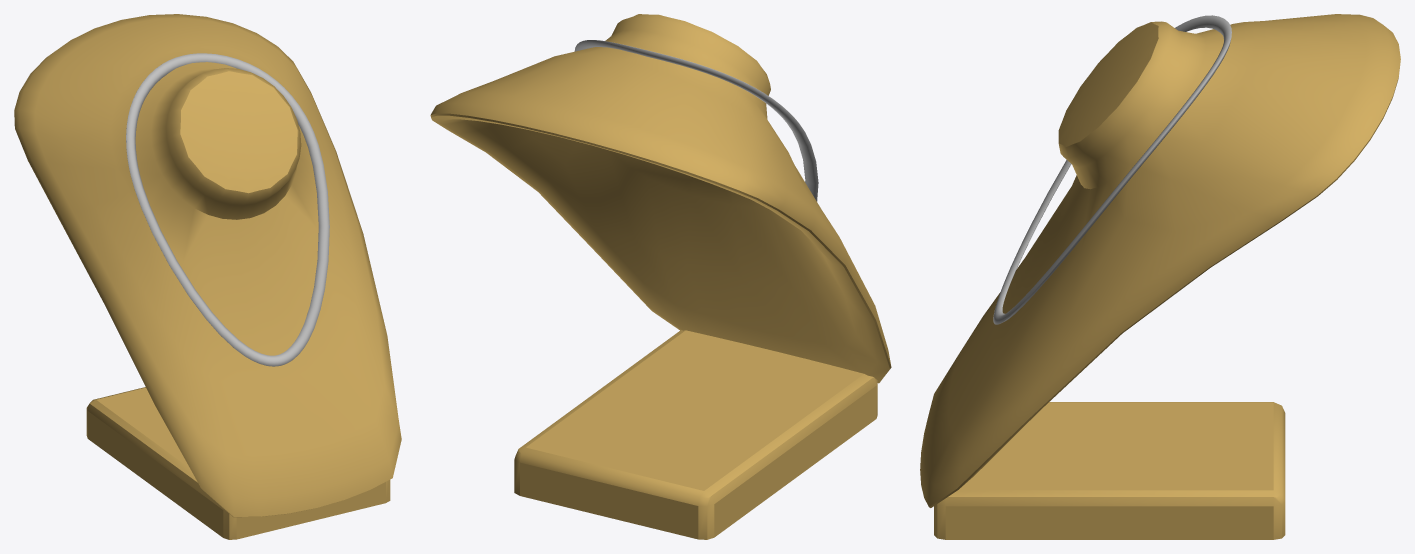
Rendered from Necklace_12.fbx.
3 views of the same model, side by side, from view 1: azimuth 30°, elevation 25°; view 2: azimuth 150°, elevation 25°; view 3: azimuth 270°, elevation 25° (orthographic). The views are drawn at different scales.
Visible parts, largest first — view 1: SM_Stand_Necklace_16, SM_Necklace_16; view 2: SM_Stand_Necklace_16, SM_Necklace_16; view 3: SM_Stand_Necklace_16, SM_Necklace_16.
Part boxes in pixels (bbox=[...]): SM_Stand_Necklace_16: bbox=[14, 14, 401, 539]; SM_Necklace_16: bbox=[126, 53, 329, 366]; SM_Stand_Necklace_16: bbox=[430, 14, 891, 539]; SM_Necklace_16: bbox=[574, 40, 818, 201]; SM_Stand_Necklace_16: bbox=[920, 14, 1400, 539]; SM_Necklace_16: bbox=[993, 15, 1231, 324].
Bounding box in the file's own units: 22.51 × 29.29 × 27.78.
